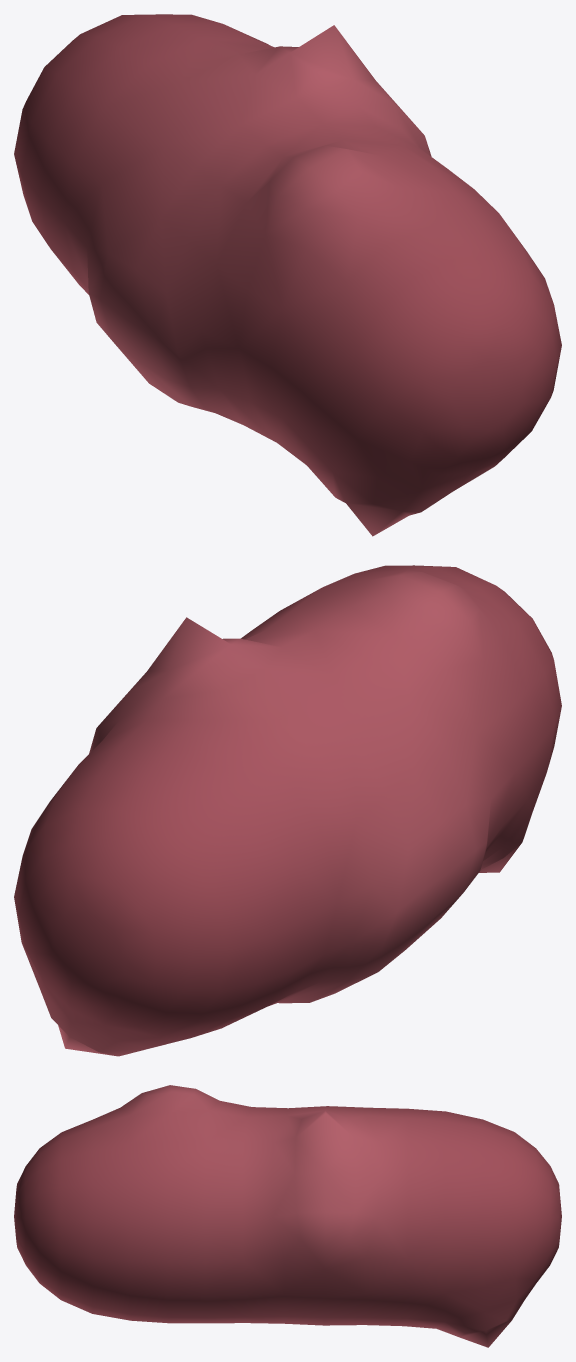
The model's file is microscopic-bacteria-lumpy-bacterium_v1.glb.
The picture shows the model from 3 angles, top to bottom: view 1: azimuth 30°, elevation 25°; view 2: azimuth 150°, elevation 25°; view 3: azimuth 270°, elevation 25°; orthographic projection. The views are drawn at different scales.
Visible parts, largest first — view 1: Lumpy Bacterium_v1; view 2: Lumpy Bacterium_v1; view 3: Lumpy Bacterium_v1.
Boxes of the visible parts, x1,y1,x2,y2 form: Lumpy Bacterium_v1: (14, 14, 561, 536); Lumpy Bacterium_v1: (14, 565, 561, 1056); Lumpy Bacterium_v1: (14, 1085, 561, 1347).
Size of the model in its own units: 0.2321 by 0.2426 by 0.5.
